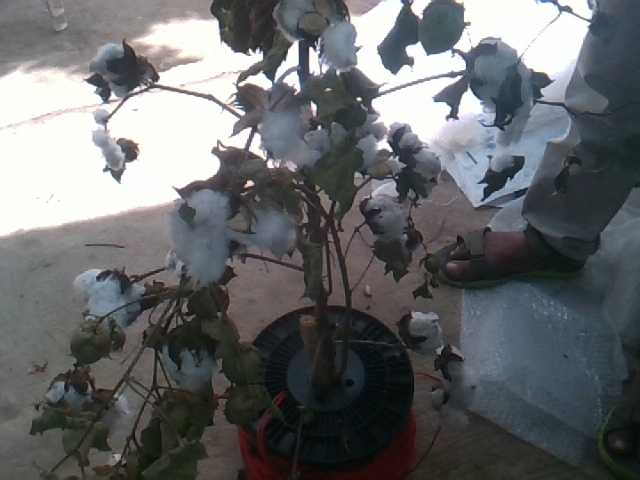cotton: (177, 187, 233, 288), (476, 38, 528, 115), (260, 95, 314, 168), (75, 269, 126, 327), (391, 120, 440, 179), (322, 21, 359, 74), (441, 354, 476, 409), (368, 194, 404, 245), (350, 134, 390, 178), (406, 311, 443, 353)
